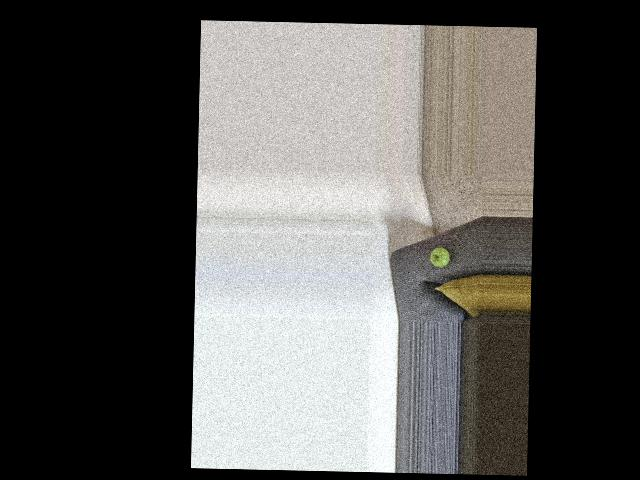apple: (429, 247, 452, 268)
